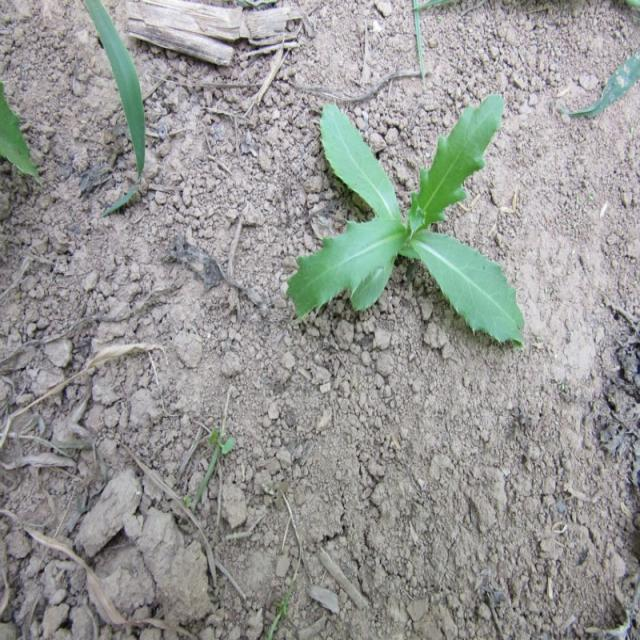cs: (286, 88, 531, 360)
